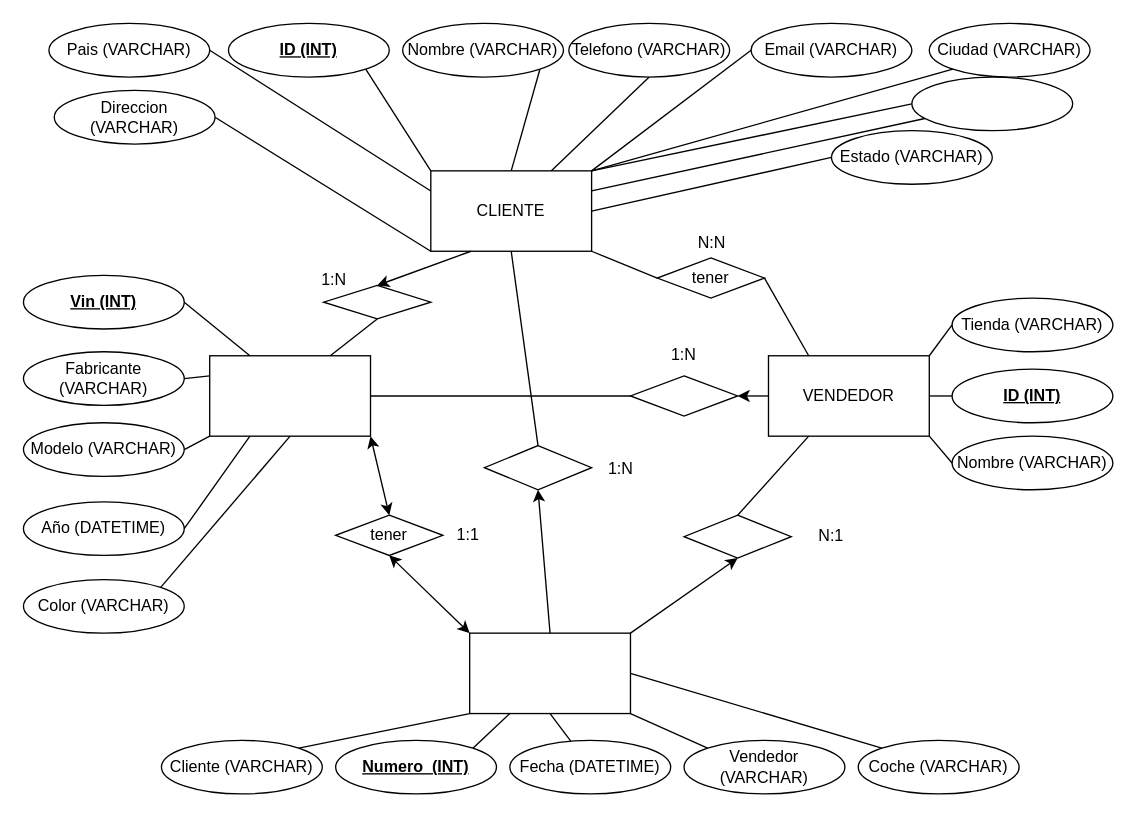
This 1136x817 diagram has some shape labels left out. The shapes that lost their labels are listed below. From the top down, each one's centre as x and y in pixels, then its label:
At [992,103]: "CodigoPostal (INT)".
At [376,301]: "comprar".
At [289,395]: "COCHE".
At [683,395]: "vender".
At [537,467]: "pagar".
At [737,536]: "emitir".
At [549,673]: "FACTURA".
